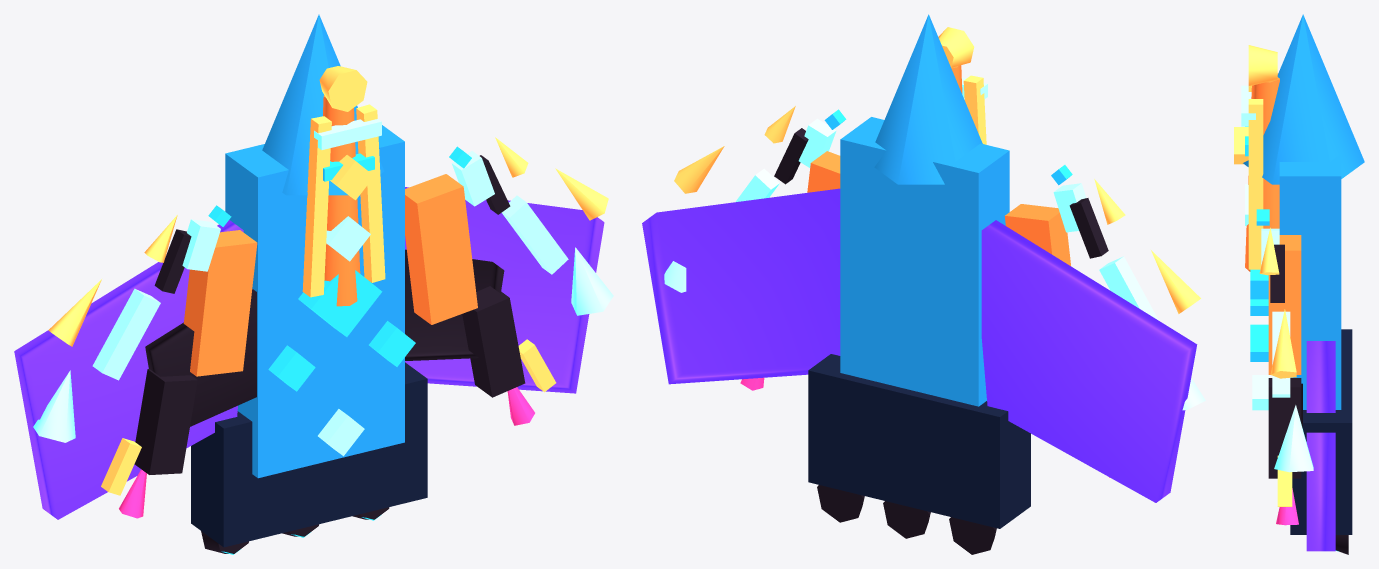
The model's file is boss-01.glb.
3 views of the same model, side by side, from view 1: azimuth 30°, elevation 25°; view 2: azimuth 150°, elevation 25°; view 3: azimuth 270°, elevation 25° (orthographic). The views are drawn at different scales.
Visible parts, largest first — view 1: central_command_hull, left_broad_wing, rear_reactor_block, right_broad_wing, right_cannon_pod, left_cannon_pod, front_knife_nose, left_inner_armor_plate, left_ammo_heat_bank, right_ammo_heat_bank, right_inner_armor_plate, left_rail_guard (+22 smaller); view 2: left_broad_wing, central_command_hull, right_broad_wing, rear_reactor_block, front_knife_nose, left_cannon_pod, left_flower_bloom_vane, left_scatter_socket_guard, engine_nozzle_0.00, engine_nozzle_0.42, engine_nozzle_-0.42, right_cannon_pod (+8 smaller); view 3: central_command_hull, front_knife_nose, right_broad_wing, rear_reactor_block, right_cannon_pod, right_rail_guard, right_ammo_heat_bank, center_rail_cannon, right_wingtip_emitter, center_cannon_muzzle_glow, right_bloom_crown_tip, right_flower_bloom_vane (+13 smaller).
Part boxes in pixels (box(x1,y1,x2,y2)): central_command_hull: box(225, 125, 404, 478); left_broad_wing: box(14, 220, 243, 519); rear_reactor_block: box(191, 362, 427, 547); right_broad_wing: box(405, 187, 604, 393); right_cannon_pod: box(405, 174, 477, 324); left_cannon_pod: box(183, 230, 257, 376); front_knife_nose: box(262, 14, 384, 195); left_inner_armor_plate: box(145, 289, 256, 426); left_ammo_heat_bank: box(134, 369, 197, 474); right_ammo_heat_bank: box(462, 286, 525, 397); right_inner_armor_plate: box(405, 249, 504, 360); left_rail_guard: box(302, 116, 331, 297); left_broad_wing: box(981, 220, 1197, 502); central_command_hull: box(840, 117, 1009, 406); right_broad_wing: box(642, 188, 840, 384); rear_reactor_block: box(808, 354, 1030, 528); front_knife_nose: box(874, 14, 982, 184); left_cannon_pod: box(1004, 204, 1070, 265); left_flower_bloom_vane: box(1099, 256, 1158, 320); left_scatter_socket_guard: box(1069, 198, 1108, 258); engine_nozzle_0.00: box(883, 501, 930, 538); engine_nozzle_0.42: box(817, 485, 864, 522); engine_nozzle_-0.42: box(949, 517, 996, 554); right_cannon_pod: box(807, 151, 840, 192); central_command_hull: box(1279, 154, 1341, 409); front_knife_nose: box(1243, 14, 1364, 184); right_broad_wing: box(1306, 341, 1335, 551); rear_reactor_block: box(1290, 329, 1352, 534); right_cannon_pod: box(1268, 235, 1301, 374); right_rail_guard: box(1248, 99, 1263, 269); right_ammo_heat_bank: box(1268, 378, 1301, 478); center_rail_cannon: box(1245, 73, 1279, 271); right_wingtip_emitter: box(1274, 405, 1313, 472); center_cannon_muzzle_glow: box(1248, 45, 1277, 86); right_bloom_crown_tip: box(1270, 309, 1296, 378); right_flower_bloom_vane: box(1272, 311, 1290, 397).
Bounding box in the file's own units: 3.44 × 3.09 × 0.72.
